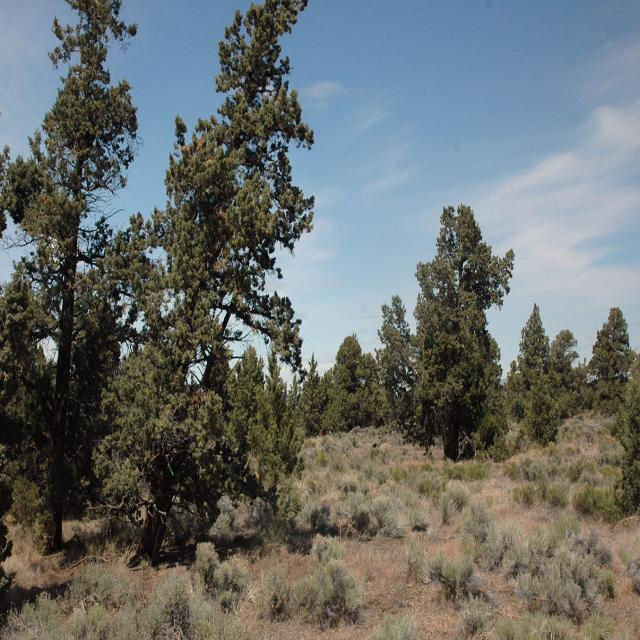Juniperus occidentalis: (109, 0, 330, 596), (0, 14, 161, 595), (409, 202, 517, 466)
